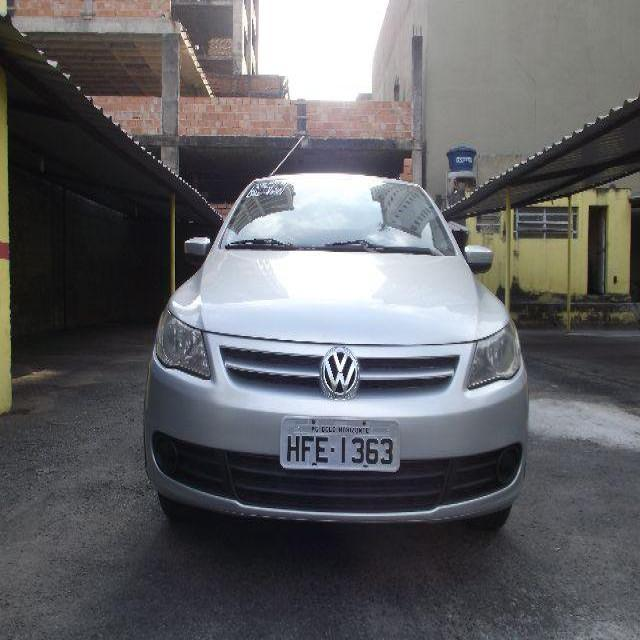Placa: (277, 413, 406, 476)
